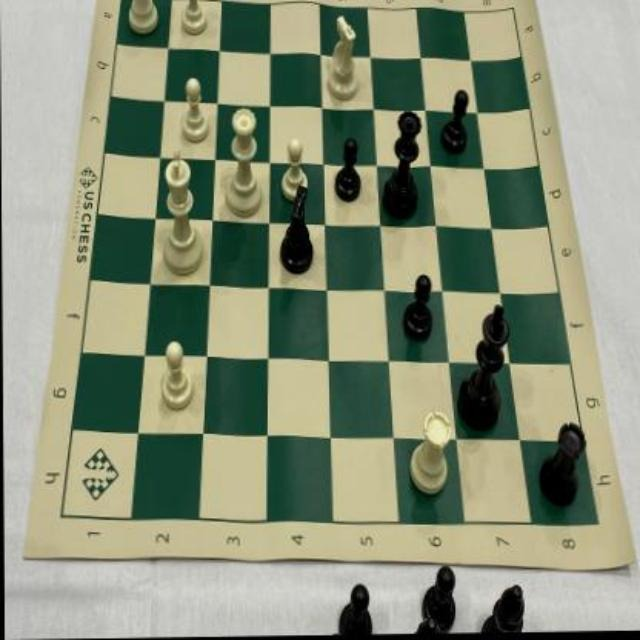black-king: (453, 303, 511, 441)
black-knight: (270, 186, 320, 278)
black-pawn: (435, 83, 471, 161), (400, 274, 432, 350), (332, 136, 364, 209)
black-queen: (378, 106, 422, 229)
black-rook: (534, 418, 586, 518)
white-king: (157, 146, 207, 282)
white-knight: (321, 11, 362, 106)
white-pawn: (274, 131, 312, 211), (156, 337, 194, 412), (175, 72, 210, 147), (176, 1, 212, 43)
white-queen: (223, 102, 261, 220)
white-rook: (406, 406, 453, 502), (123, 0, 163, 38)
